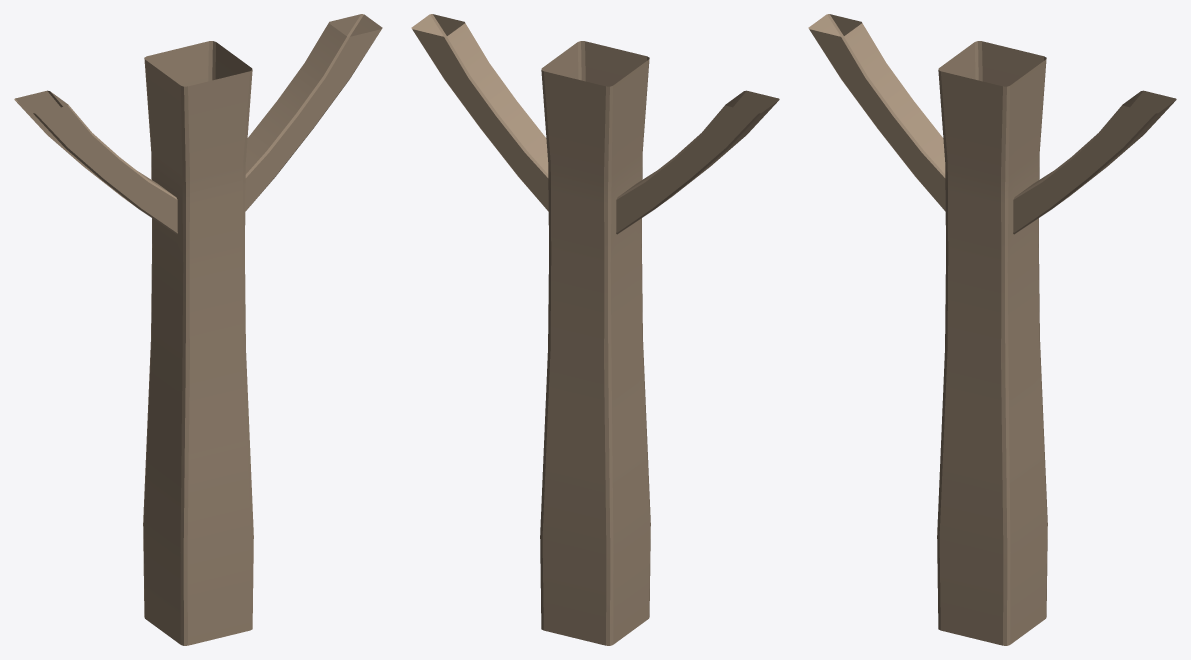
Rendered from tav_pillar.fbx.
3 renders of one model, left to right at view 1: azimuth 30°, elevation 25°; view 2: azimuth 150°, elevation 25°; view 3: azimuth 330°, elevation 25°, orthographic.
Visible parts, largest first — view 1: tav_pillar; view 2: tav_pillar; view 3: tav_pillar.
Boxes of the visible parts, <box> form: tav_pillar: <box>14,14,382,645</box>; tav_pillar: <box>411,14,779,645</box>; tav_pillar: <box>808,14,1176,645</box>.
Bounding box in the file's own units: 196 × 300 × 40.89.
